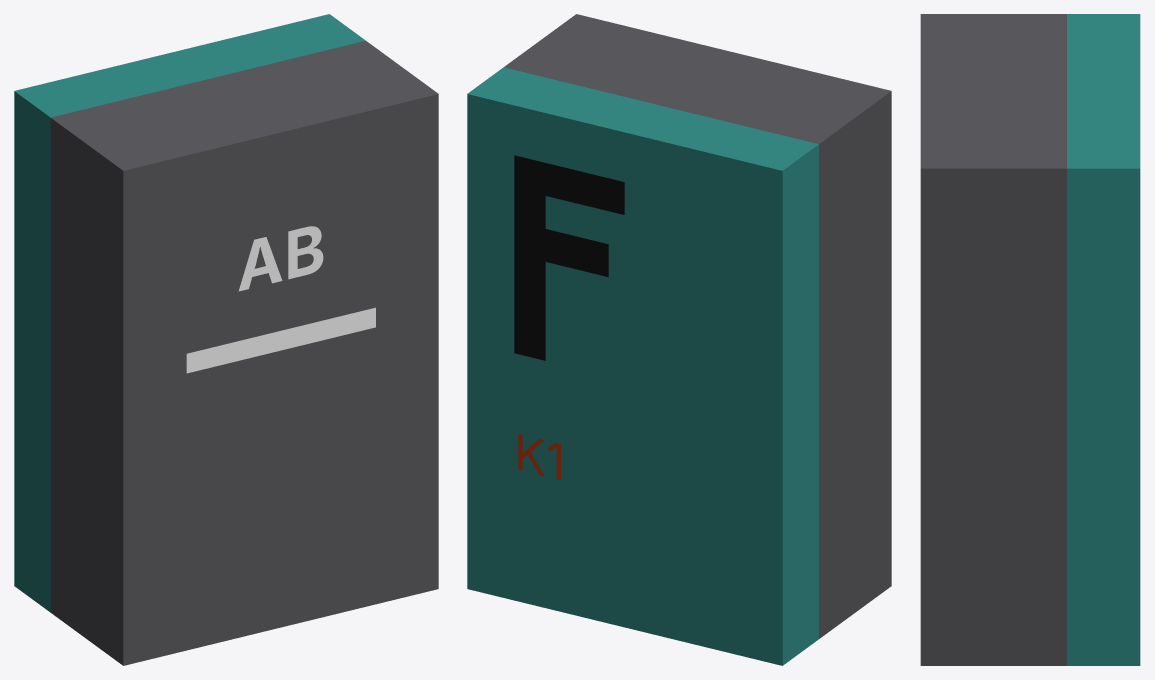
3 renders of one model, left to right at view 1: azimuth 30°, elevation 25°; view 2: azimuth 150°, elevation 25°; view 3: azimuth 270°, elevation 25°, orthographic.
Visible parts, largest first — view 1: case, base, name_legends_ffffff; view 2: base, case, label_legends_111113, label_legends_d2390c; view 3: case, base.
Part boxes in pixels (x1,y1,x2,y2): case: (50,40,438,665); base: (14,14,365,612); name_legends_ffffff: (186,226,375,373); base: (467,67,818,665); case: (504,14,891,638); label_legends_111113: (514,155,624,360); label_legends_d2390c: (518,434,560,479); case: (920,14,1066,665); base: (1067,14,1140,665).
Size of the model in its own units: 0.02 by 0.03 by 0.0121.
